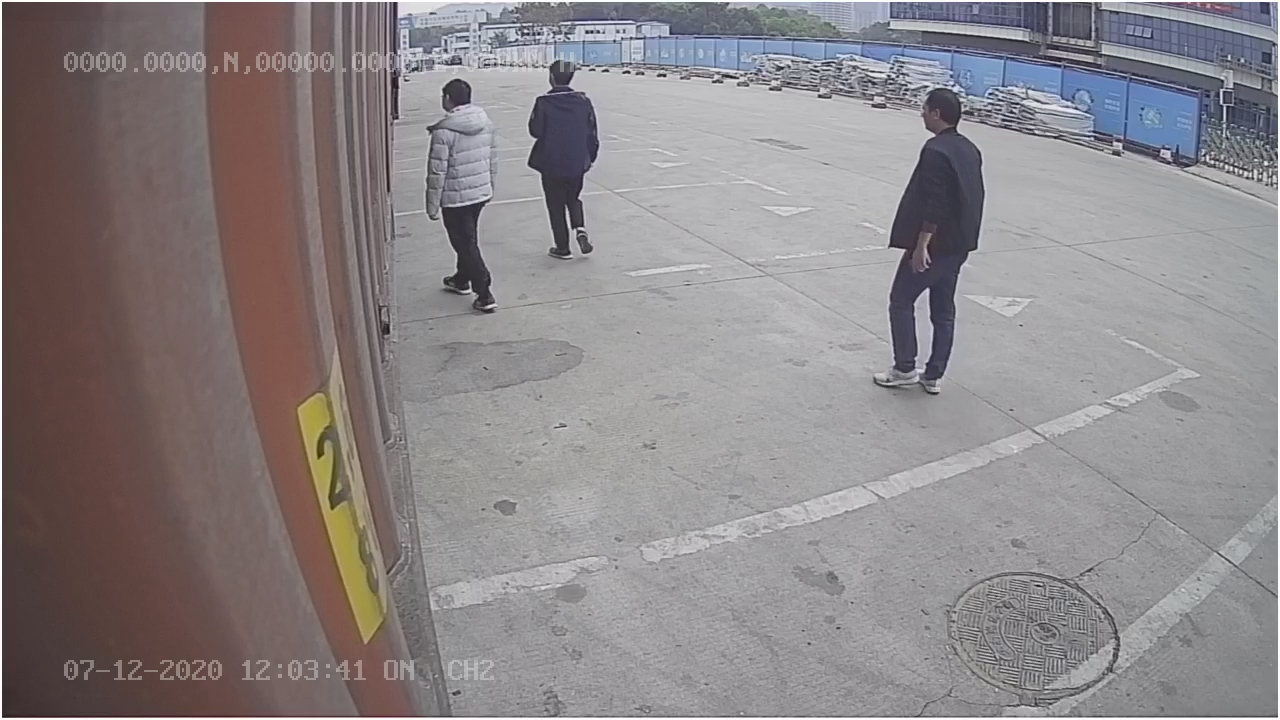person: (867, 80, 989, 400), (423, 75, 505, 317)
